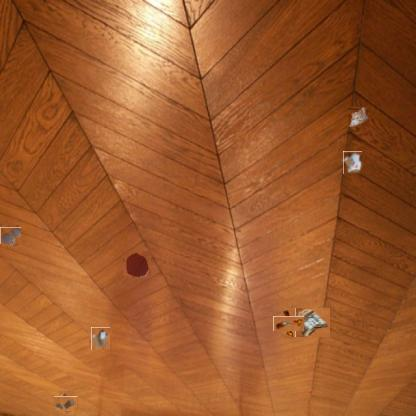dirty: (295, 307, 330, 337), (277, 312, 300, 335), (347, 107, 369, 128), (90, 328, 111, 349), (342, 152, 363, 173), (57, 394, 76, 413)
liquid: (124, 251, 150, 277), (1, 226, 20, 245)
